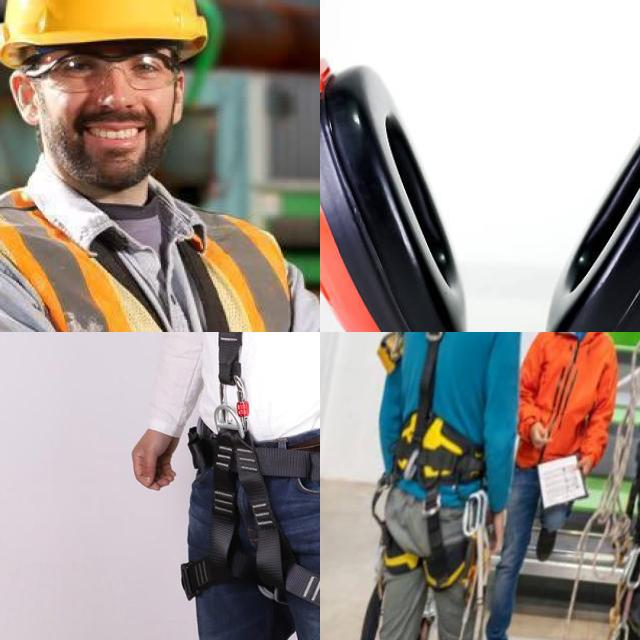Ear-protection: (320, 0, 640, 332)
Harness: (190, 332, 320, 591), (382, 332, 485, 590)
No_Ear-Protection: (3, 66, 47, 127), (167, 68, 194, 130)
face_nomask: (23, 45, 196, 207)
glasses: (37, 47, 181, 96)
head_helmet: (0, 0, 222, 61)
person: (0, 0, 320, 332)
vest: (0, 175, 320, 332)
